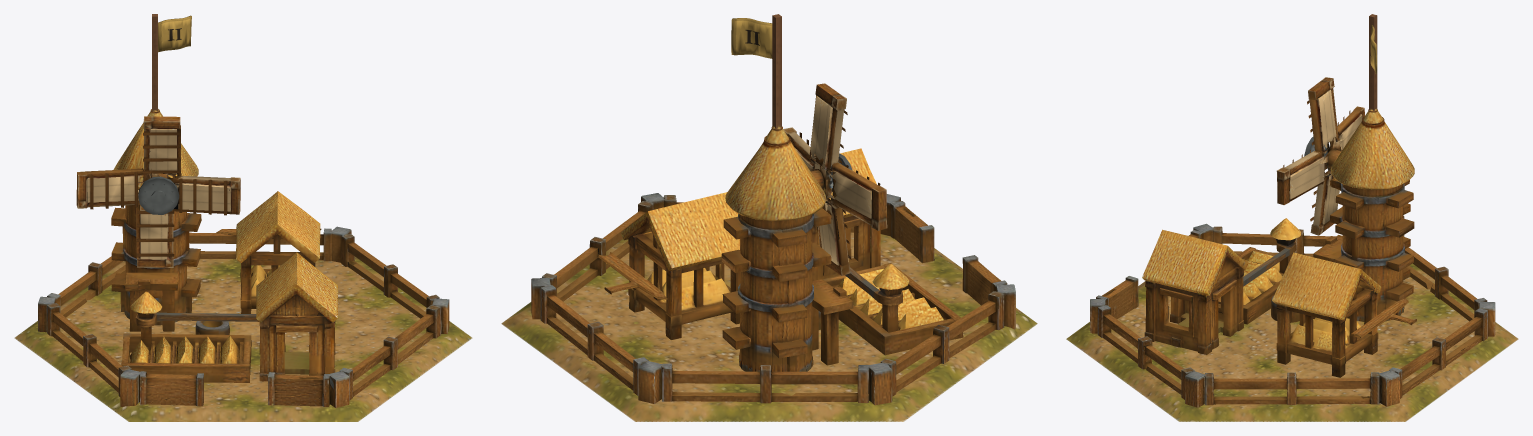
File: farm-2.glb
3 views of the same model, side by side, from view 1: azimuth 30°, elevation 25°; view 2: azimuth 150°, elevation 25°; view 3: azimuth 270°, elevation 25° (orthographic). The views are drawn at different scales.
Visible parts, largest first — view 1: architecture, ground, rotor, tier-banner; view 2: architecture, ground, rotor, tier-banner; view 3: architecture, ground, rotor.
Part boxes in pixels (left/top/right/bottom): architecture: left=38, top=14, right=449, bottom=407; ground: left=14, top=252, right=472, bottom=421; rotor: left=76, top=116, right=240, bottom=267; tier-banner: left=158, top=15, right=191, bottom=52; architecture: left=531, top=14, right=1015, bottom=405; ground: left=501, top=232, right=1037, bottom=421; rotor: left=783, top=83, right=887, bottom=275; tier-banner: left=731, top=18, right=772, bottom=58; architecture: left=1090, top=14, right=1495, bottom=407; ground: left=1066, top=263, right=1518, bottom=421; rotor: left=1276, top=77, right=1364, bottom=235.
Bounding box in the file's own units: 1.59 × 1.35 × 1.84.
3 materials, 3 textured.
